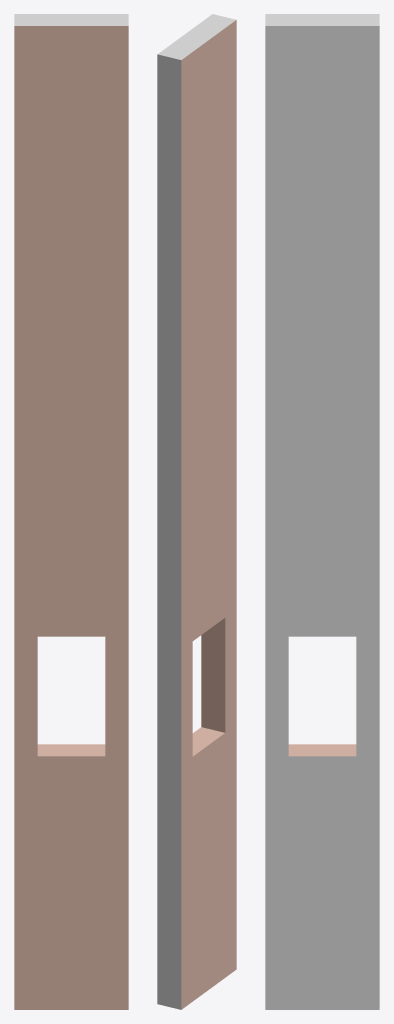
Rendered from Warehouse_WallDoor2.fbx.
3 views of the same model, side by side, from view 1: azimuth 90°, elevation 25°; view 2: azimuth 150°, elevation 25°; view 3: azimuth 270°, elevation 25° (orthographic). The views are drawn at different scales.
Visible parts, largest first — view 1: Warehouse_WallDoor2; view 2: Warehouse_WallDoor2; view 3: Warehouse_WallDoor2.
Part boxes in pixels (x1=…): Warehouse_WallDoor2: x1=14, y1=14, x2=128, y2=1009; Warehouse_WallDoor2: x1=157, y1=14, x2=236, y2=1009; Warehouse_WallDoor2: x1=265, y1=14, x2=379, y2=1009.
Bounding box in the file's own units: 0.5 × 19 × 2.
